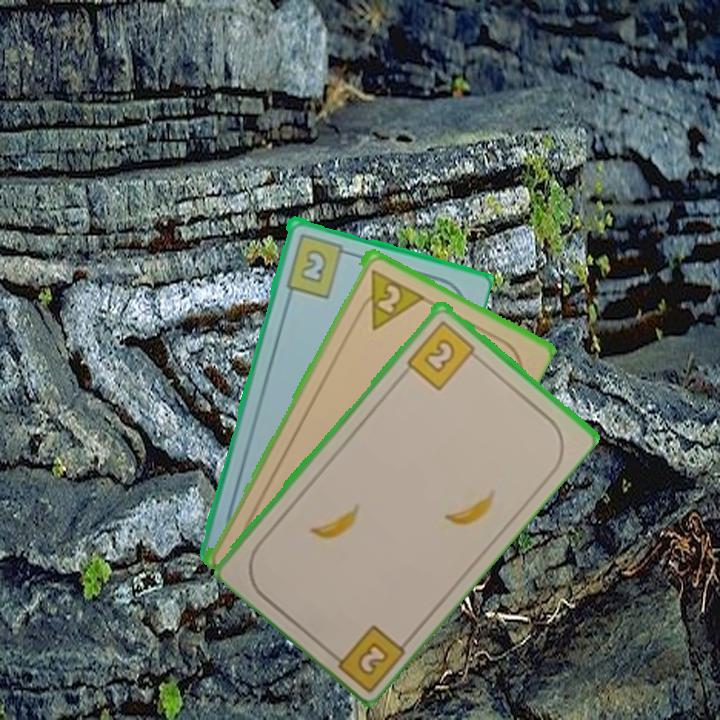2b: (402, 316, 483, 393), (323, 620, 408, 692), (282, 229, 354, 300)
2p: (353, 265, 425, 332)
